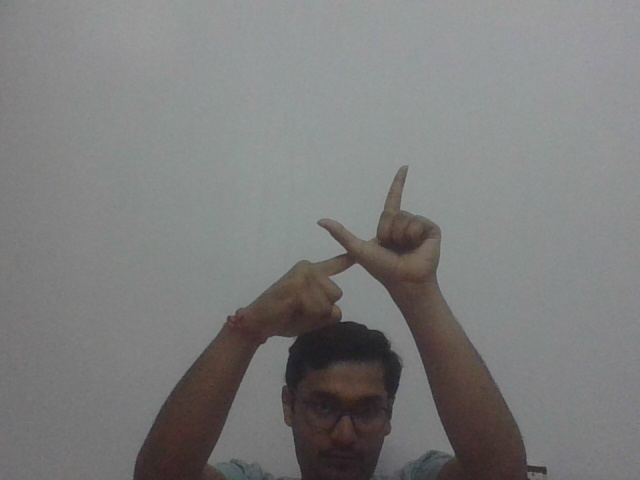Y: (294, 155, 454, 334)
